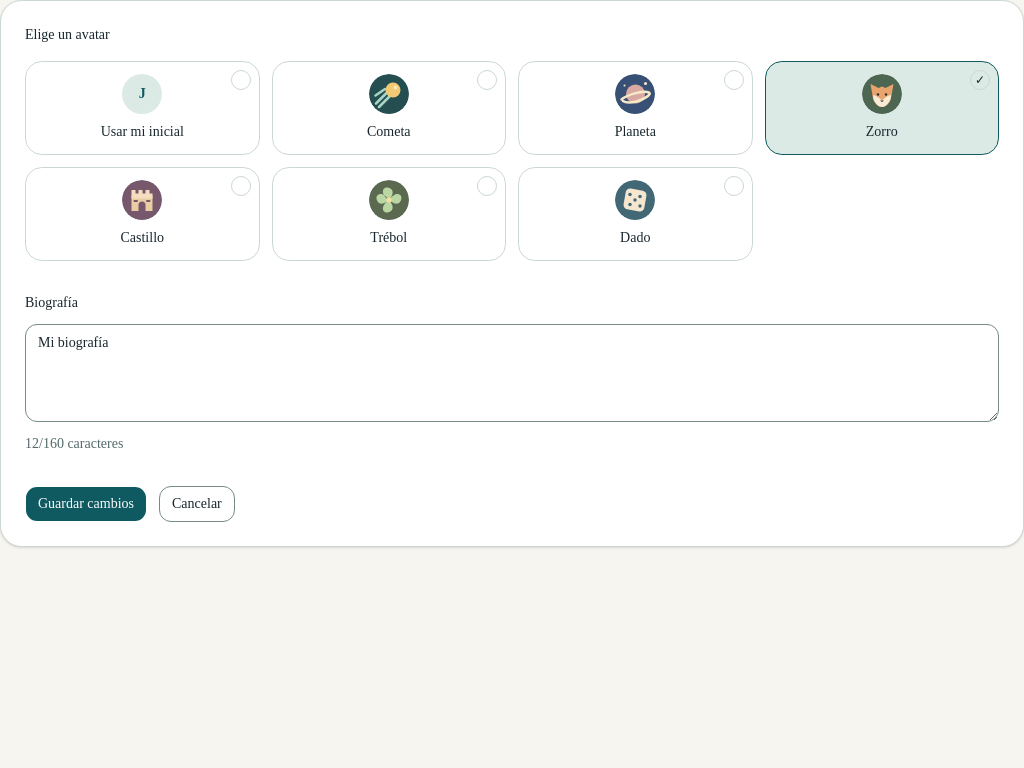
Test: ProfileEditor integration › preserves edited values after a save failure and allows retrying
Step 1. Replace the text in the text box labelled "Biografía" with "Mi cambio" → x=512, y=373, box 25,324 -> 999,422
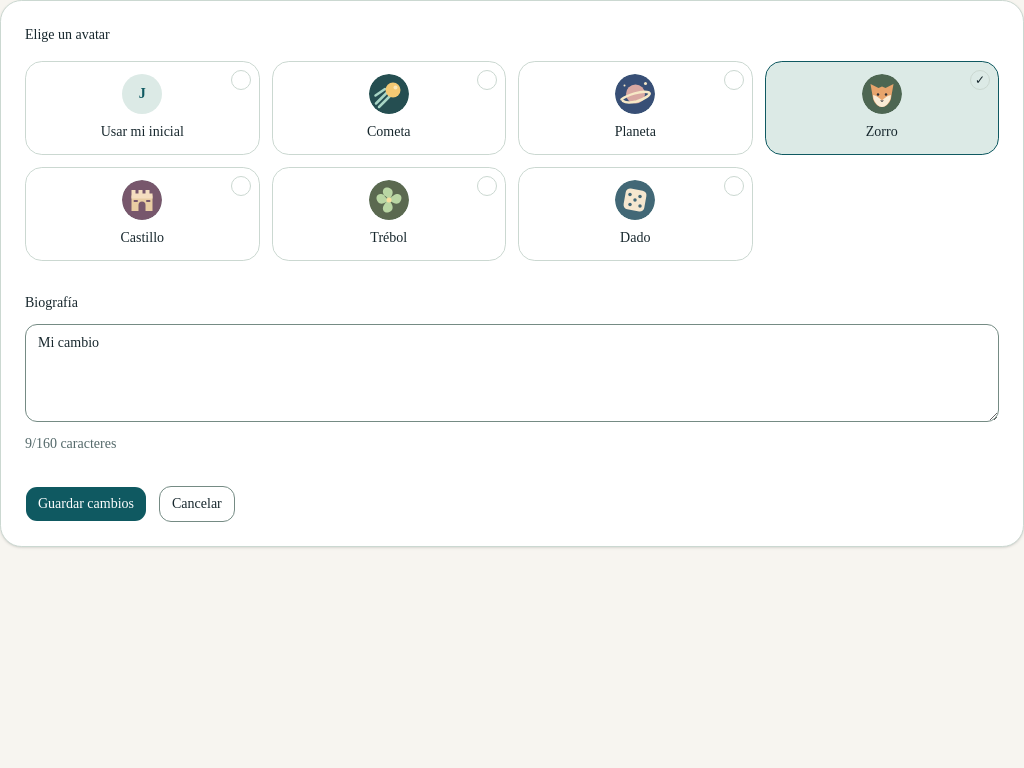
Step 2. Click the button "Guardar cambios" → x=86, y=504, box 25,486 -> 147,522
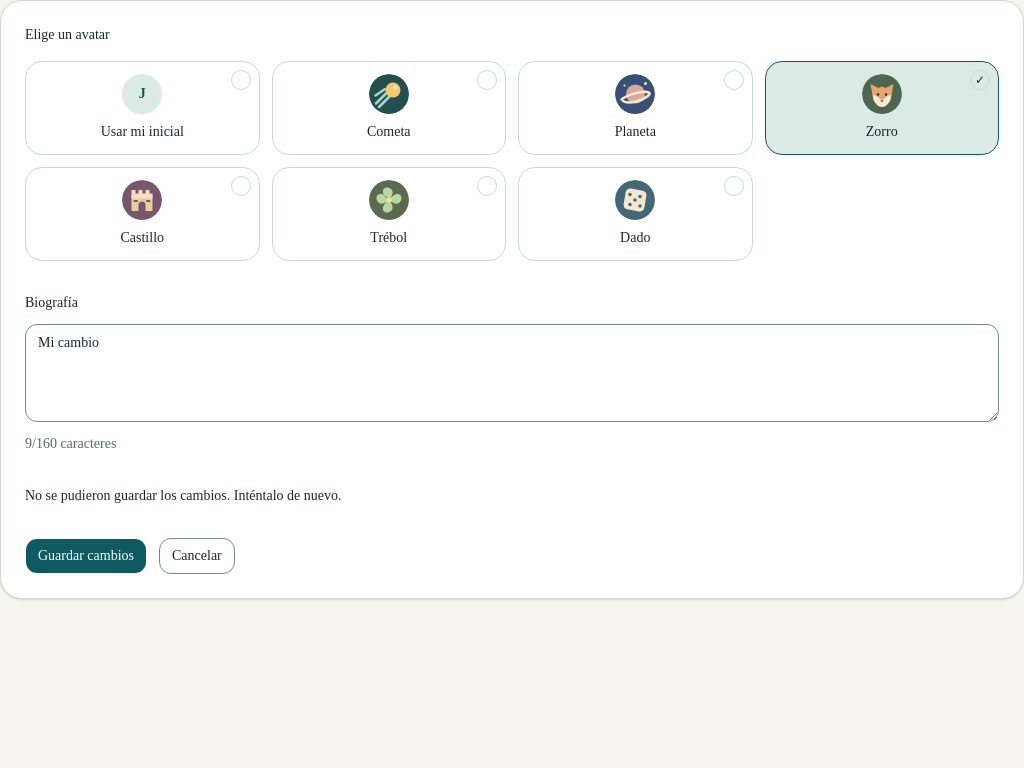
Expected: the text "No se pudieron guardar los cambios. Inténtalo de nuevo." is shown, 25,488 -> 342,503
Step 3. Click the button "Guardar cambios" → x=86, y=556, box 25,538 -> 147,574
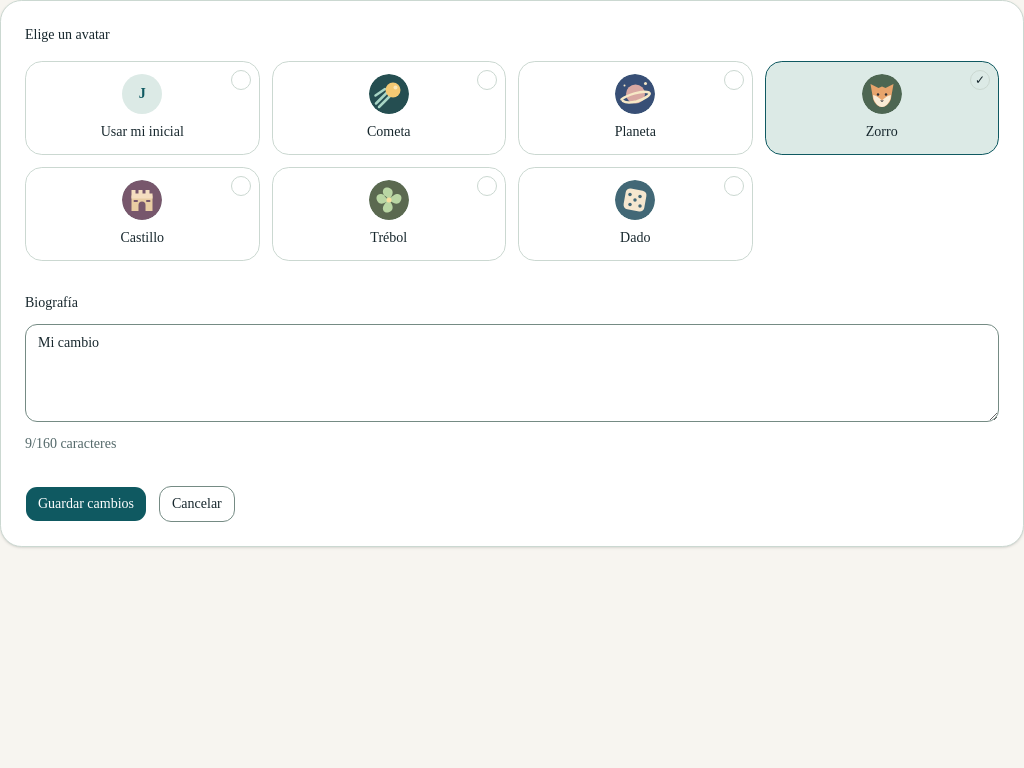
Expected: the text "No se pudieron guardar los cambios. Inténtalo de nuevo." is gone
